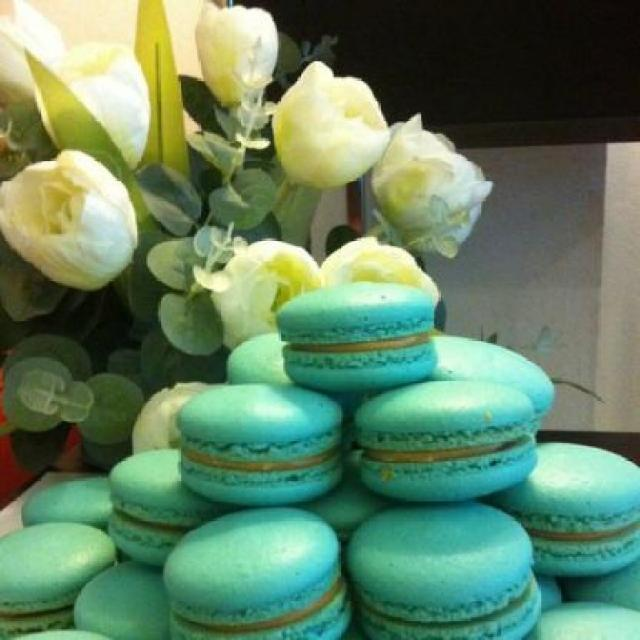Macaron: (3, 284, 640, 640)
